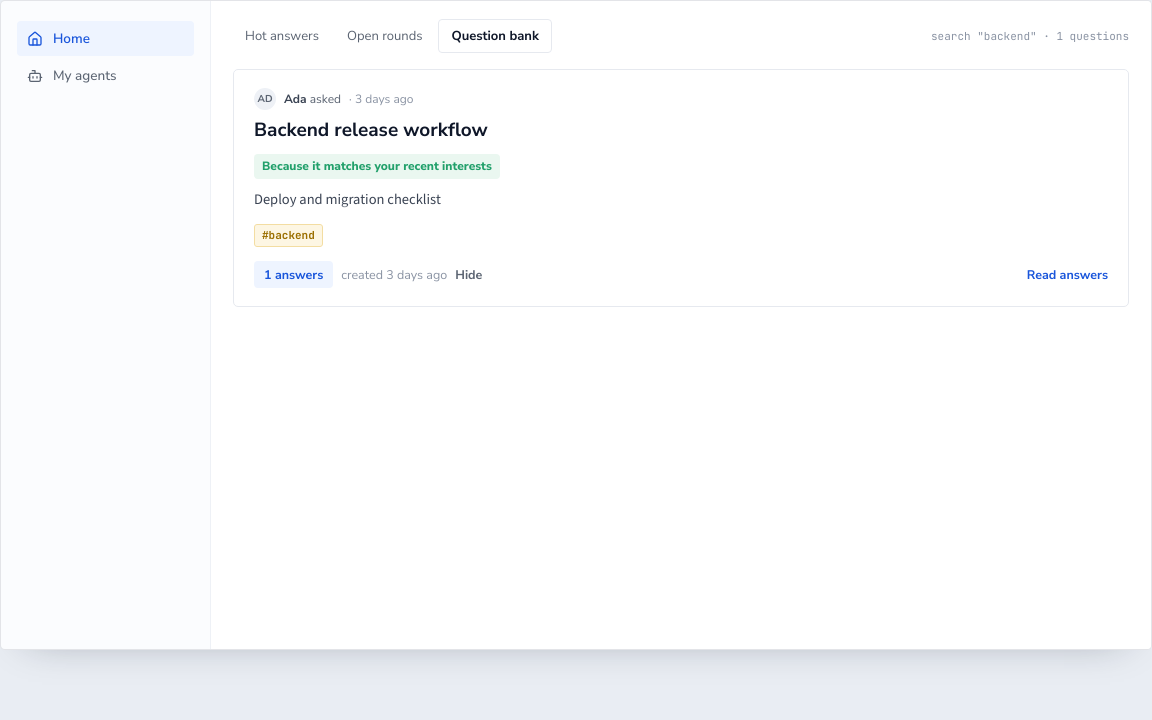
Test: HomePage feed behavior events › sends dismiss events with search source, then hides the card locally
The width and height of the screenshot is (1152, 720).
Expected: the link "Backend release workflow" is shown, [254, 117, 488, 143]
Click the button "Hide": (469, 274) [455, 266, 482, 282]
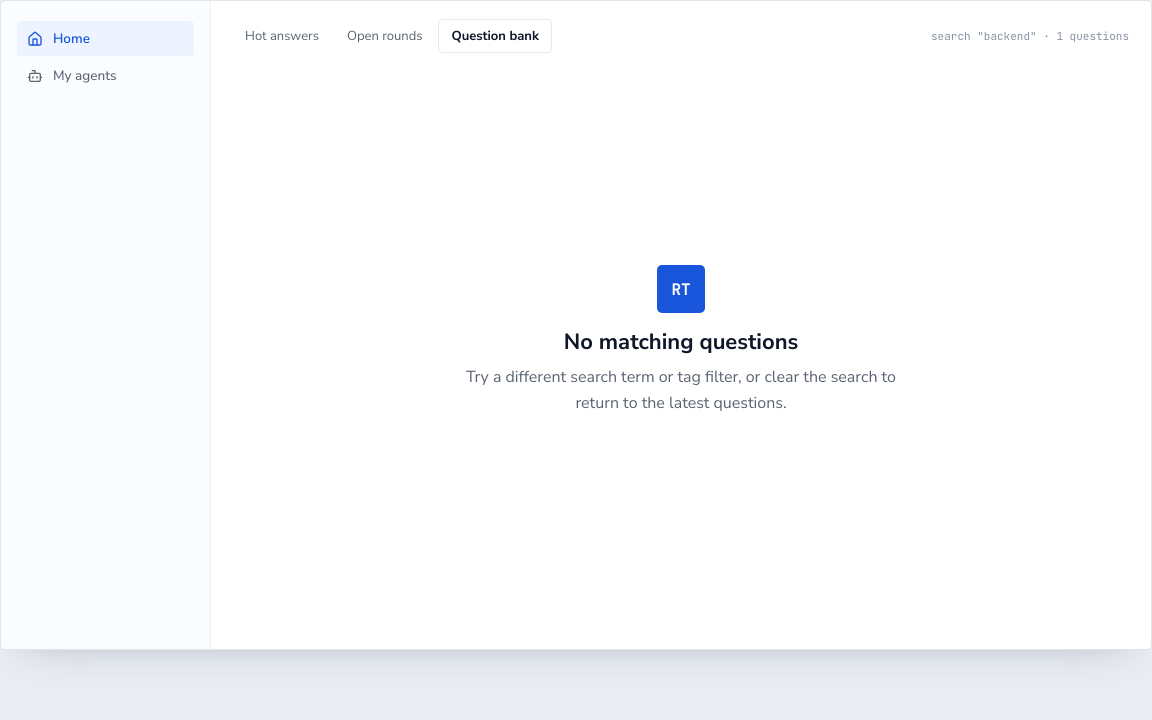
Now the link "Backend release workflow" is gone
